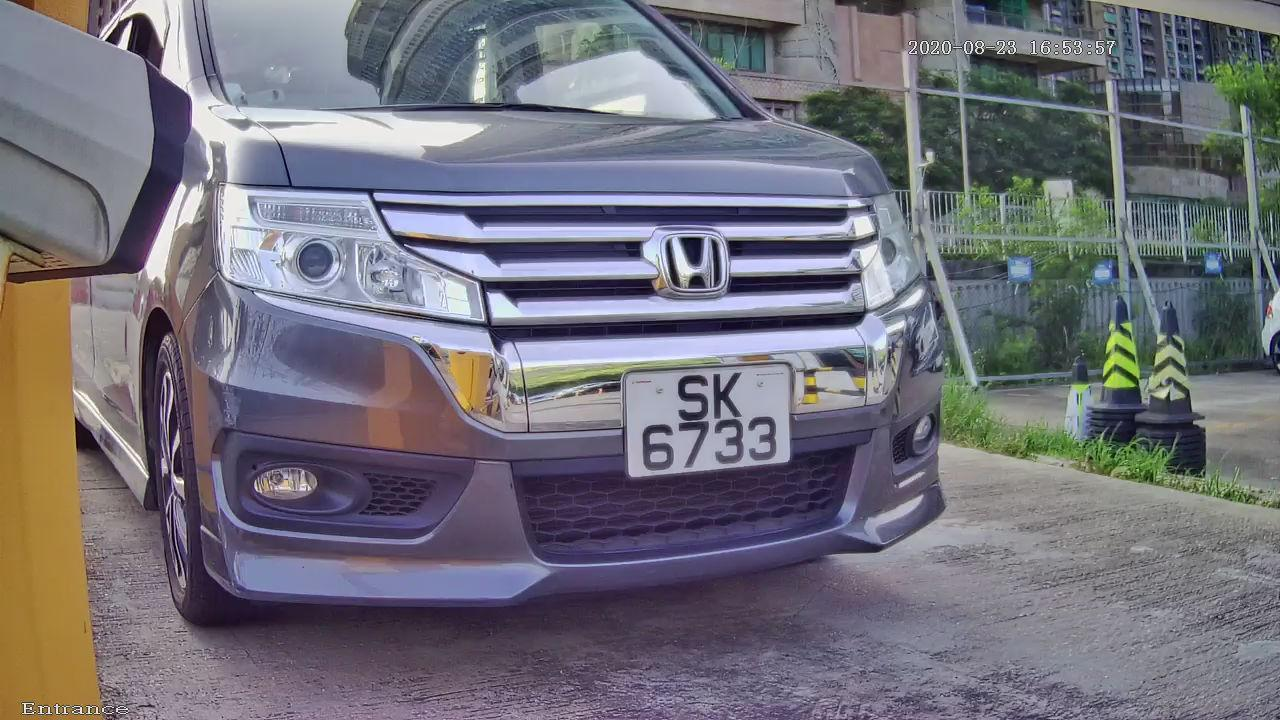Car: (23, 7, 1023, 666)
License Plate: (606, 344, 806, 489)
